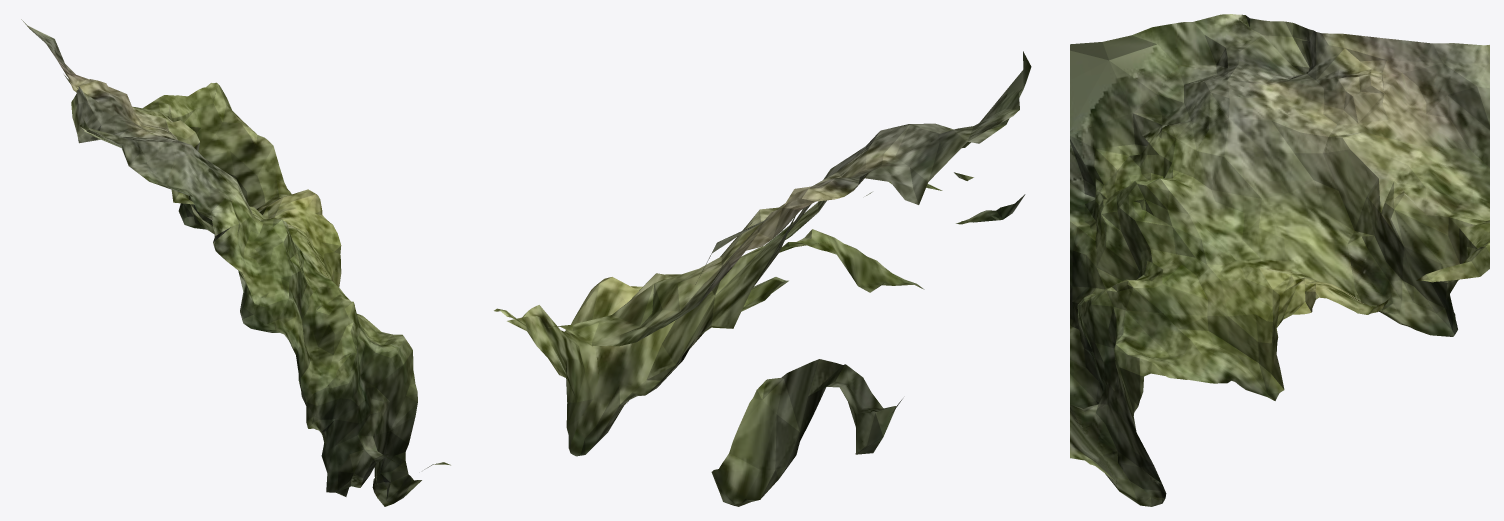
The picture shows the model from 3 angles, left to right: view 1: azimuth 30°, elevation 25°; view 2: azimuth 150°, elevation 25°; view 3: azimuth 270°, elevation 25°; orthographic projection. The views are drawn at different scales.
Size of the model in its own units: 4.25 by 5.81 by 5.9.
3 materials, 3 textured.
